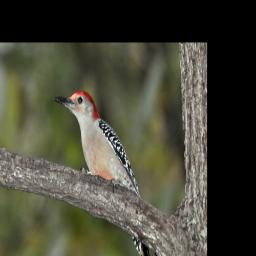Woodpecker: (53, 89, 154, 256)
